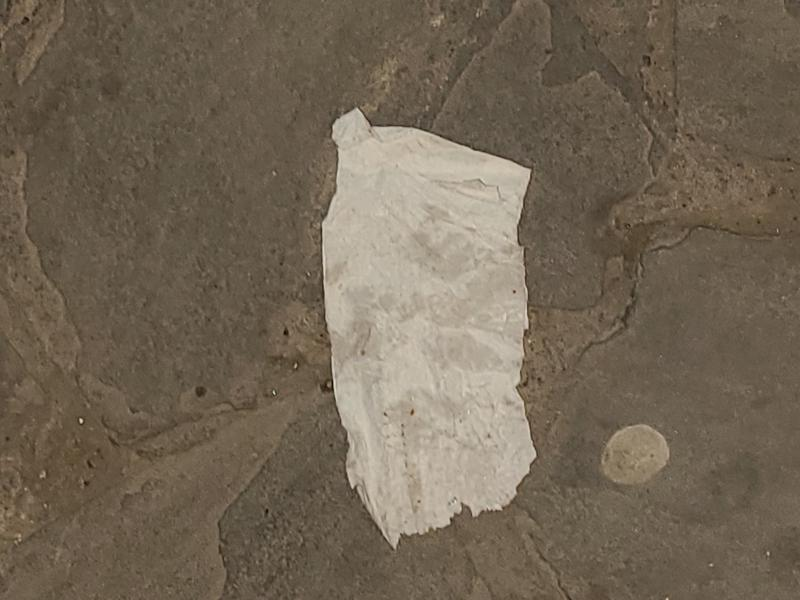papel: (320, 109, 538, 549)
